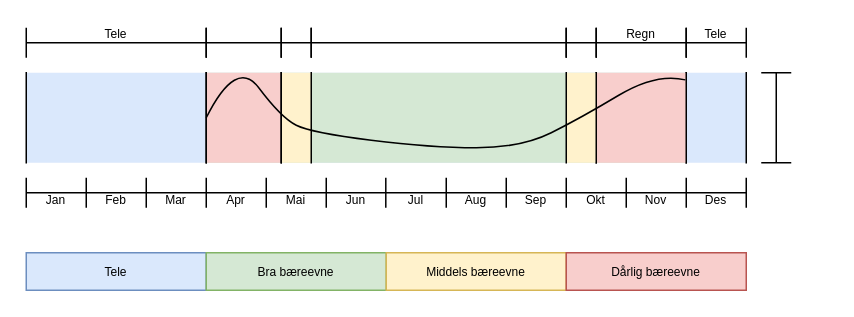
Image size: 854x317. Some labels were removed from this diagram. The shapes that lost their labels are listed below. From the top down, each one's box as (x1, y1, x2, y2) in pixels, then its label:
(205, 26, 281, 58): Teleløsning
(310, 26, 566, 58): Barmark
(760, 71, 791, 163): Jord- fuktighet
